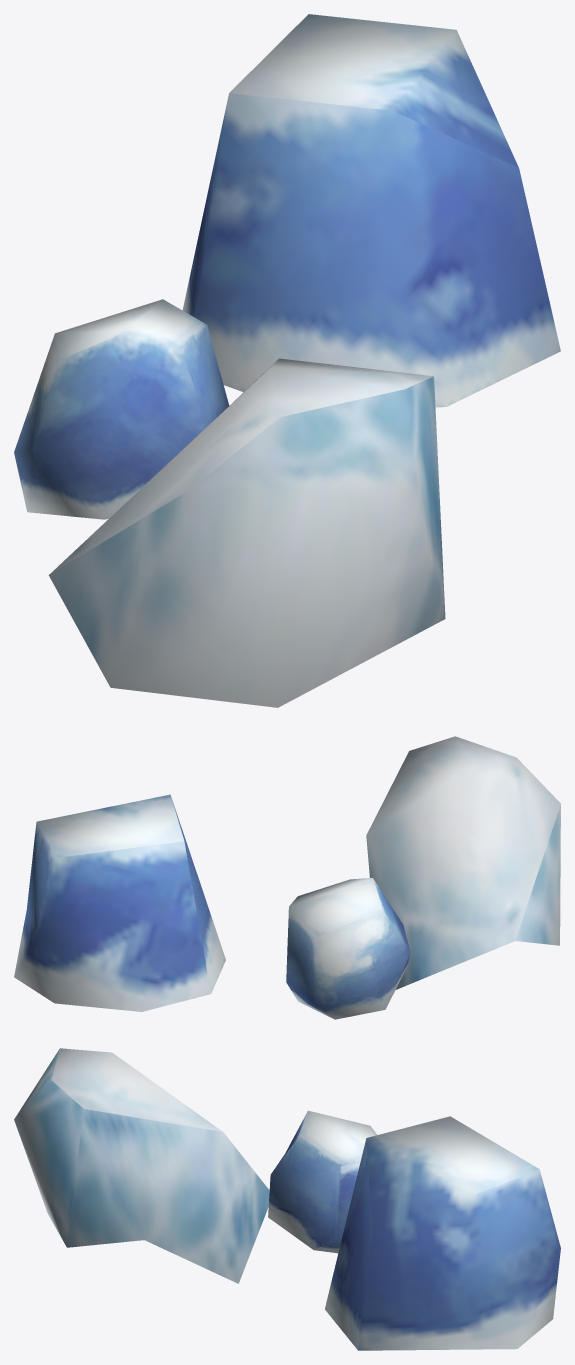
Rendered from SM_stoneB_06.fbx.
The picture shows the model from 3 angles, top to bottom: view 1: azimuth 30°, elevation 25°; view 2: azimuth 150°, elevation 25°; view 3: azimuth 270°, elevation 25°; orthographic projection. The views are drawn at different scales.
Parts seen in each view (by area): view 1: SM_stoneB_06; view 2: SM_stoneB_06; view 3: SM_stoneB_06.
Boxes of the visible parts, x1,y1,x2,y2 form: SM_stoneB_06: (14, 14, 560, 707); SM_stoneB_06: (14, 736, 560, 1019); SM_stoneB_06: (14, 1048, 560, 1350).
Bounding box in the file's own units: 2.06 × 1.08 × 2.37.
